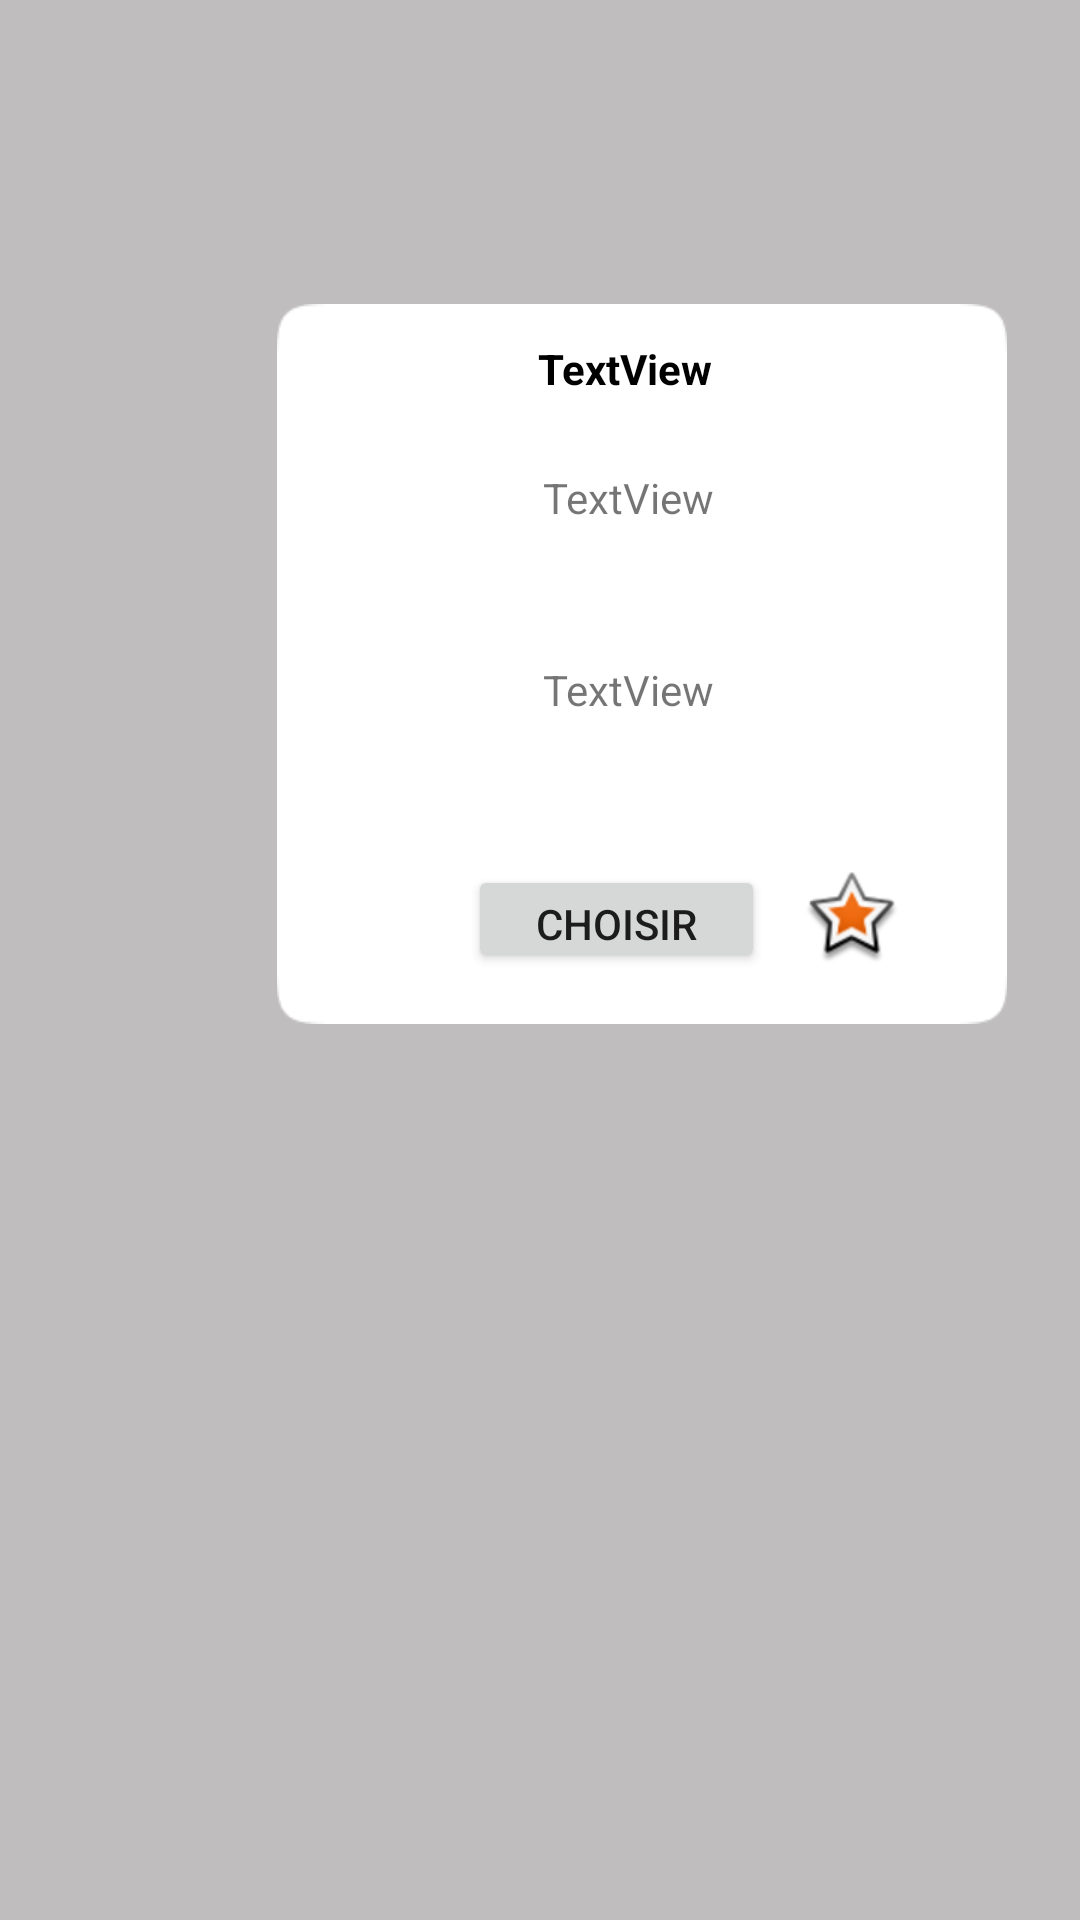

Point at icon controls on the screen. Image size 1080px×1920px, points as [x,y].
star on: [852,915]
